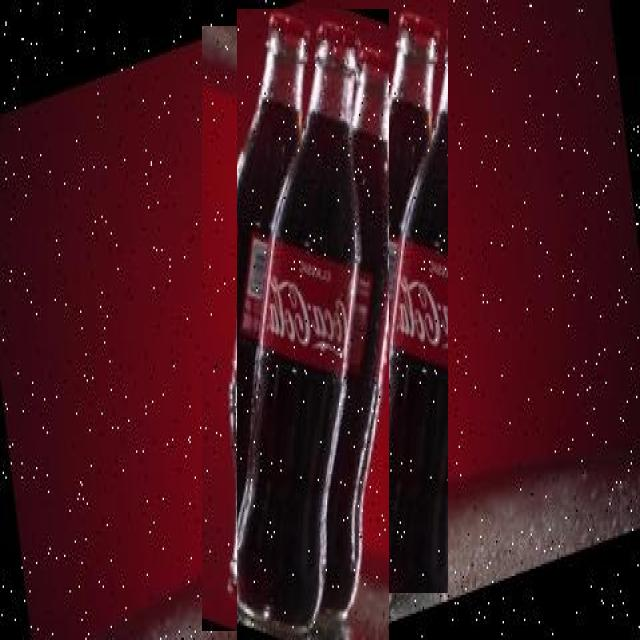coca-cola: (238, 9, 390, 640), (309, 0, 448, 593), (202, 26, 334, 631)
